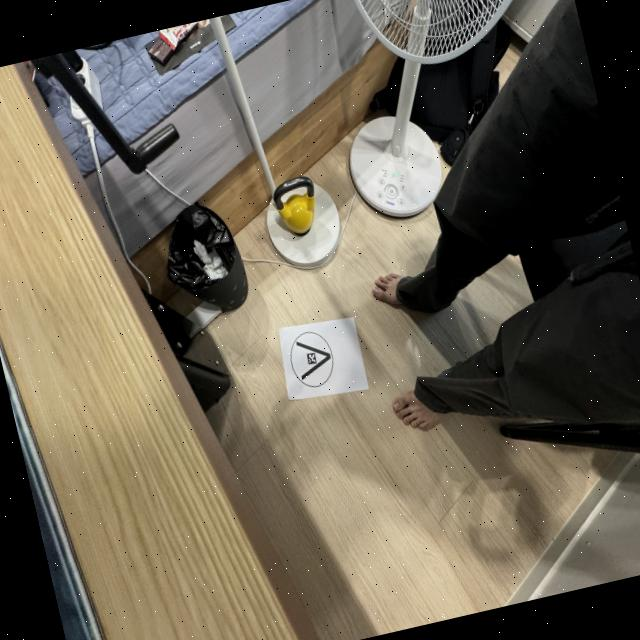ArUro mark: (278, 322, 340, 394)
